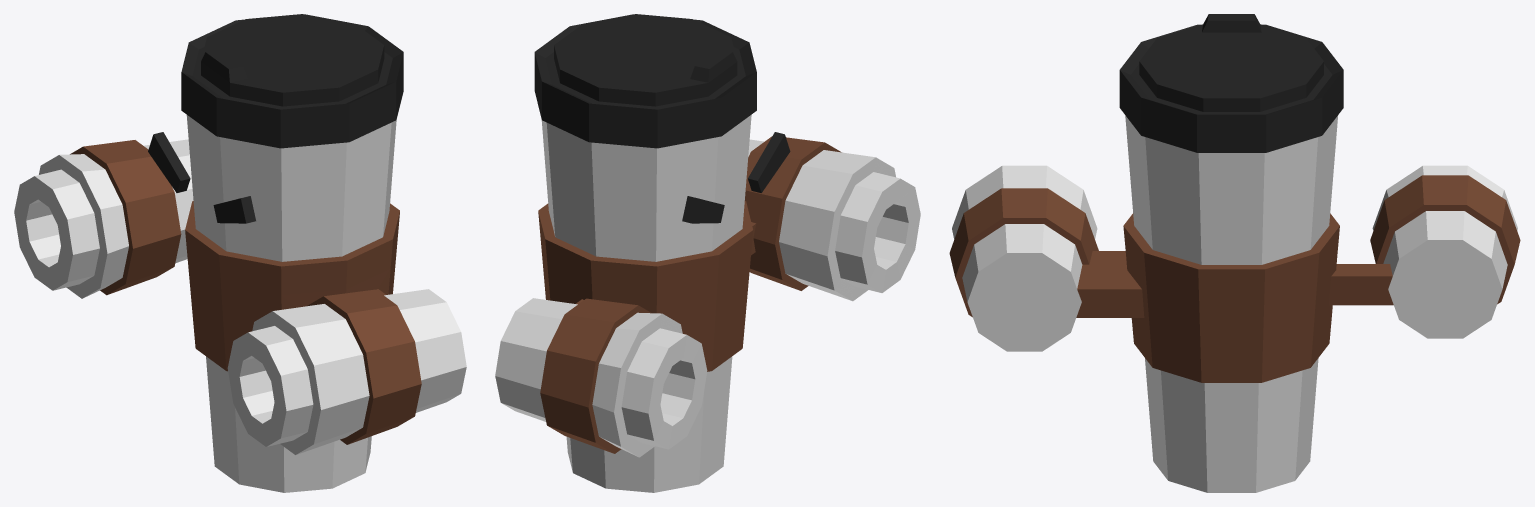
File: CoffeeBoss.fbx
3 views of the same model, side by side, from view 1: azimuth 30°, elevation 25°; view 2: azimuth 150°, elevation 25°; view 3: azimuth 270°, elevation 25° (orthographic).
Parts seen in each view (by area): view 1: Cylinder.097, Cylinder.098, Cylinder.101, Cylinder.099, Cylinder.100, Cylinder.102, Cylinder.103, Cube.3820, Cube.3821; view 2: Cylinder.097, Cylinder.098, Cylinder.100, Cylinder.101, Cylinder.099, Cylinder.103, Cylinder.102, Cube.3821, Cube.3820; view 3: Cylinder.097, Cylinder.099, Cylinder.098, Cylinder.101, Cylinder.100, Cylinder.103, Cylinder.102.
Part boxes in pixels (left/top/right/bottom): Cylinder.097: left=186, top=115, right=396, bottom=492; Cylinder.098: left=181, top=14, right=403, bottom=148; Cylinder.101: left=227, top=289, right=466, bottom=454; Cylinder.099: left=185, top=201, right=399, bottom=371; Cylinder.100: left=14, top=139, right=193, bottom=298; Cylinder.102: left=307, top=289, right=421, bottom=444; Cylinder.103: left=70, top=140, right=181, bottom=295; Cube.3820: left=148, top=132, right=190, bottom=192; Cube.3821: left=213, top=196, right=255, bottom=223; Cylinder.097: left=541, top=115, right=751, bottom=492; Cylinder.098: left=534, top=14, right=756, bottom=148; Cylinder.100: left=495, top=298, right=707, bottom=457; Cylinder.101: left=748, top=139, right=920, bottom=301; Cylinder.099: left=538, top=201, right=756, bottom=371; Cylinder.103: left=540, top=298, right=651, bottom=453; Cylinder.102: left=745, top=136, right=841, bottom=290; Cube.3821: left=748, top=132, right=790, bottom=192; Cube.3820: left=682, top=196, right=724, bottom=223; Cylinder.097: left=1125, top=115, right=1338, bottom=492; Cylinder.099: left=1076, top=213, right=1393, bottom=382; Cylinder.098: left=1119, top=14, right=1343, bottom=152; Cylinder.101: left=952, top=165, right=1097, bottom=351; Cylinder.100: left=1372, top=165, right=1517, bottom=338; Cylinder.103: left=1370, top=175, right=1520, bottom=304; Cylinder.102: left=949, top=188, right=1098, bottom=317.
Bounding box in the file's own units: 349 × 163 × 277.
